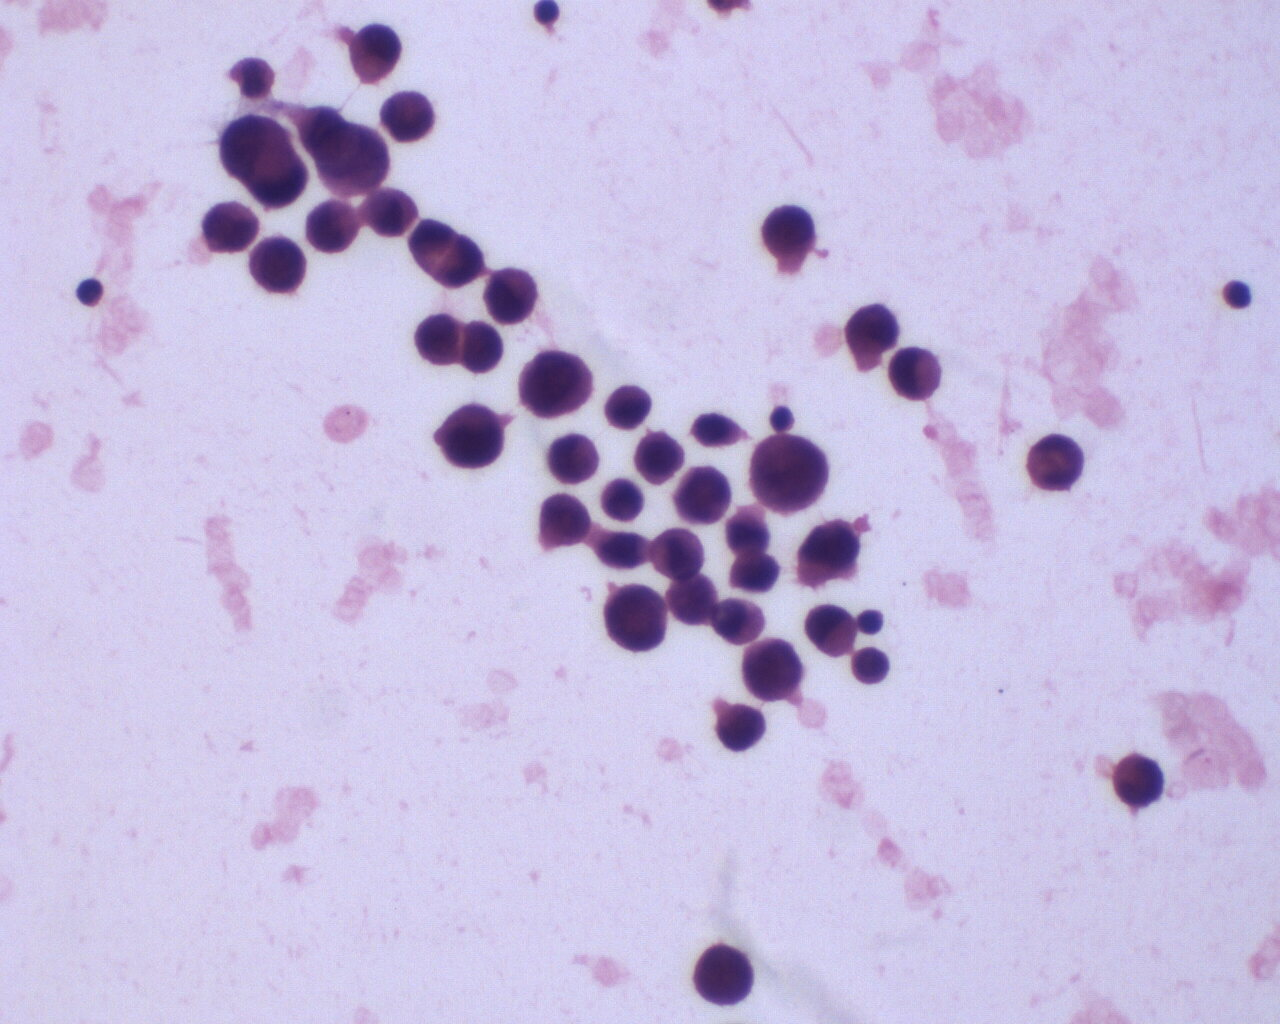ab: (749, 433, 831, 515), (311, 118, 393, 197), (518, 347, 594, 423), (599, 581, 672, 656), (433, 400, 506, 470), (690, 942, 764, 1007), (1020, 427, 1087, 497), (741, 635, 808, 703), (248, 233, 309, 301), (648, 523, 712, 584), (481, 262, 541, 326), (532, 492, 594, 554), (544, 428, 604, 491), (1111, 749, 1166, 813), (202, 197, 262, 255), (301, 199, 363, 255), (632, 430, 683, 487)
lymph: (74, 274, 113, 313), (1220, 275, 1256, 315), (858, 600, 890, 637)
